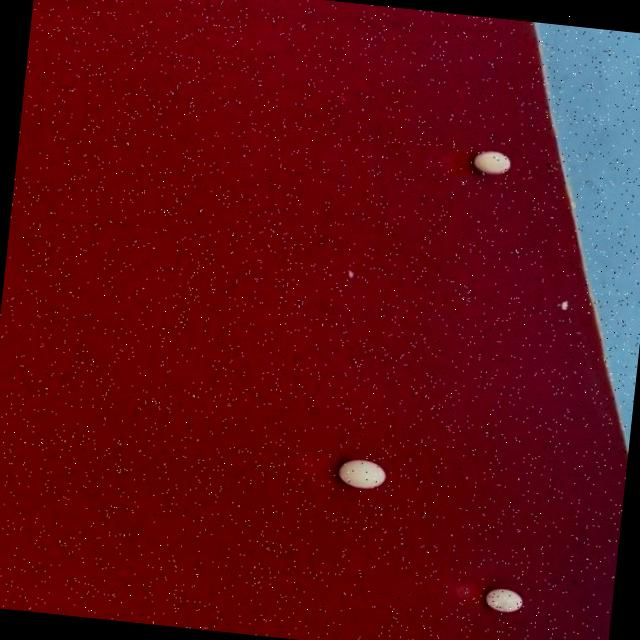ping-pong-ball: (324, 448, 399, 501), (464, 577, 540, 624), (464, 142, 526, 186)
